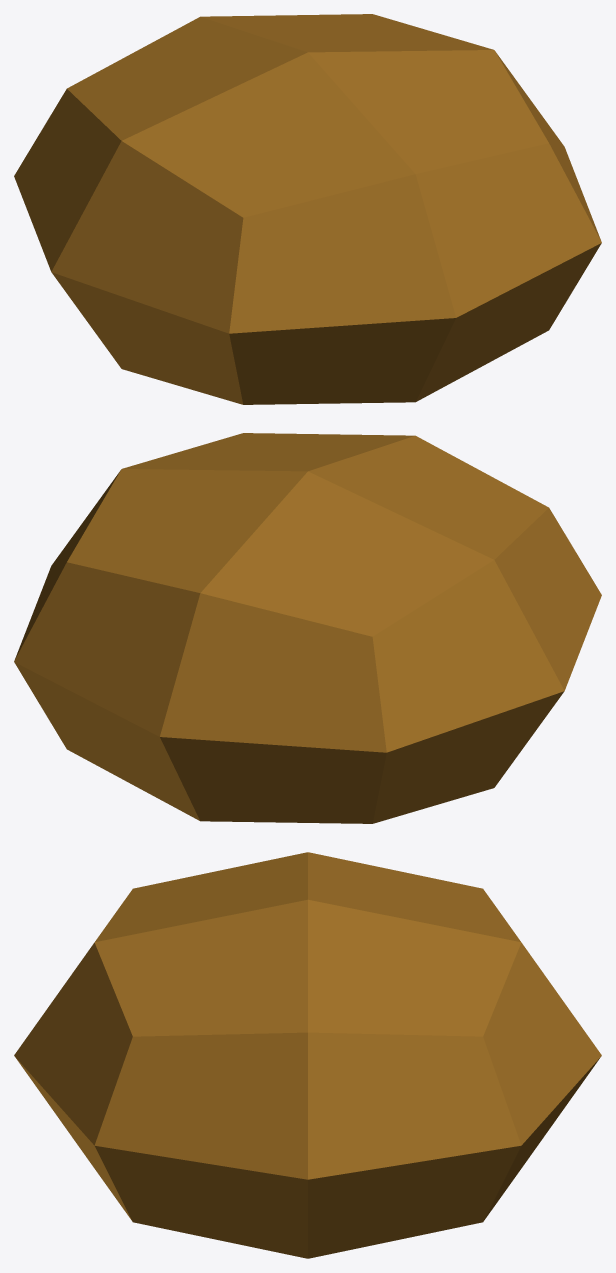
File: ExportedBlenderFBXFile.fbx
3 views of the same model, one above another, from view 1: azimuth 30°, elevation 25°; view 2: azimuth 150°, elevation 25°; view 3: azimuth 270°, elevation 25° (orthographic).
Parts seen in each view (by area): view 1: Cube.001; view 2: Cube.001; view 3: Cube.001.
Boxes of the visible parts, bbox=[...] form: Cube.001: bbox=[14, 14, 601, 404]; Cube.001: bbox=[14, 433, 601, 823]; Cube.001: bbox=[14, 852, 601, 1258].
Size of the model in its own units: 1.4 by 0.8208 by 1.4.
